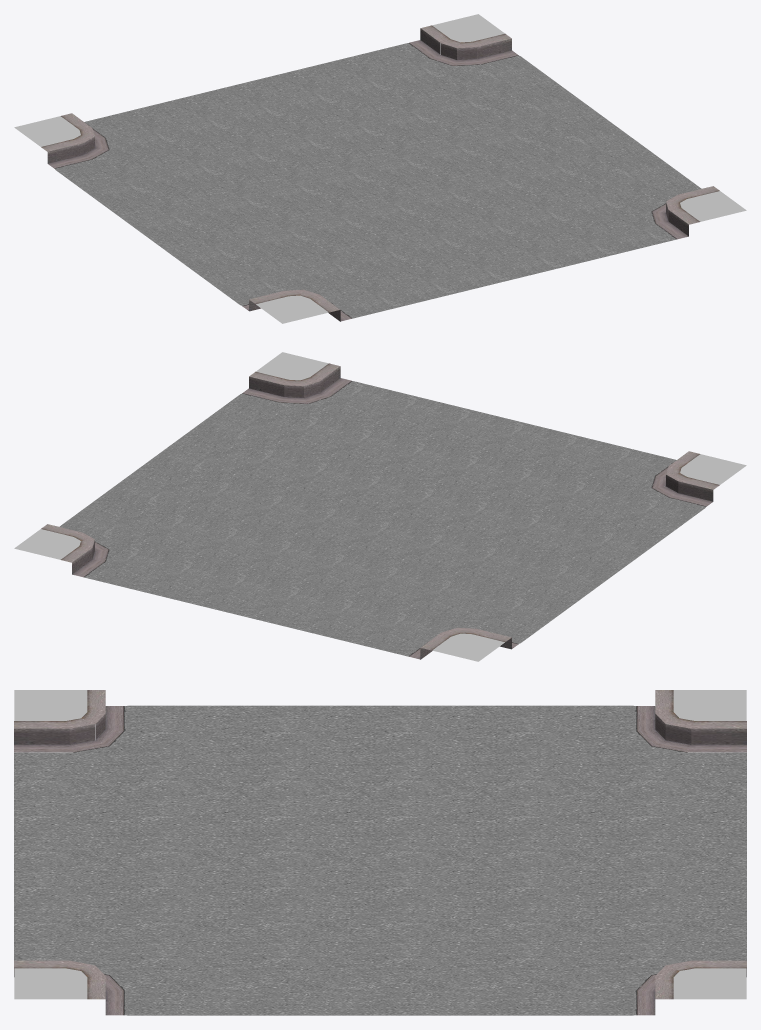
The model's file is roada71.dae.
3 views of the same model, one above another, from view 1: azimuth 30°, elevation 25°; view 2: azimuth 150°, elevation 25°; view 3: azimuth 270°, elevation 25° (orthographic). The views are drawn at different scales.
Visible parts, largest first — view 1: S_Object_000, S_Object_001_1, S_Object_000_1, S_Object_001, S_Object_001_2, S_Object_001_3, S_Object_000_5, S_Object_001_4, S_Object_000_6, S_Object_000_4; view 2: S_Object_000, S_Object_001_1, S_Object_000_1, S_Object_001, S_Object_001_2, S_Object_001_3, S_Object_000_5, S_Object_001_4, S_Object_000_6, S_Object_000_4; view 3: S_Object_000, S_Object_001_1, S_Object_001, S_Object_000_1, S_Object_000_6, S_Object_000_4, S_Object_001_3, S_Object_000_5, S_Object_001_4, S_Object_000_2.
Boxes of the visible parts, x1,y1,x2,y2 form: S_Object_000: (55, 43, 674, 317); S_Object_001_1: (429, 56, 701, 223); S_Object_000_1: (14, 116, 328, 323); S_Object_001: (432, 14, 746, 221); S_Object_001_2: (420, 28, 688, 236); S_Object_001_3: (420, 25, 719, 224); S_Object_000_5: (41, 113, 339, 312); S_Object_001_4: (409, 40, 688, 239); S_Object_000_6: (47, 137, 340, 321); S_Object_000_4: (48, 129, 351, 321); S_Object_000: (86, 381, 705, 655); S_Object_001_1: (59, 394, 331, 561); S_Object_000_1: (432, 454, 746, 661); S_Object_001: (14, 352, 328, 559); S_Object_001_2: (72, 366, 340, 574); S_Object_001_3: (41, 363, 340, 562); S_Object_000_5: (421, 451, 719, 650); S_Object_001_4: (72, 378, 351, 577); S_Object_000_6: (420, 475, 713, 659); S_Object_000_4: (409, 467, 712, 659); S_Object_000: (14, 705, 746, 967); S_Object_001_1: (97, 967, 663, 1015); S_Object_001: (14, 968, 746, 999); S_Object_000_1: (14, 690, 746, 720); S_Object_000_6: (14, 714, 746, 744); S_Object_000_4: (14, 706, 746, 752); S_Object_001_3: (14, 960, 746, 999); S_Object_000_5: (14, 690, 746, 728); S_Object_001_4: (104, 974, 656, 1015); S_Object_000_2: (14, 731, 746, 753).
Bounding box in the file's own units: 2 × 0.05 × 2.
